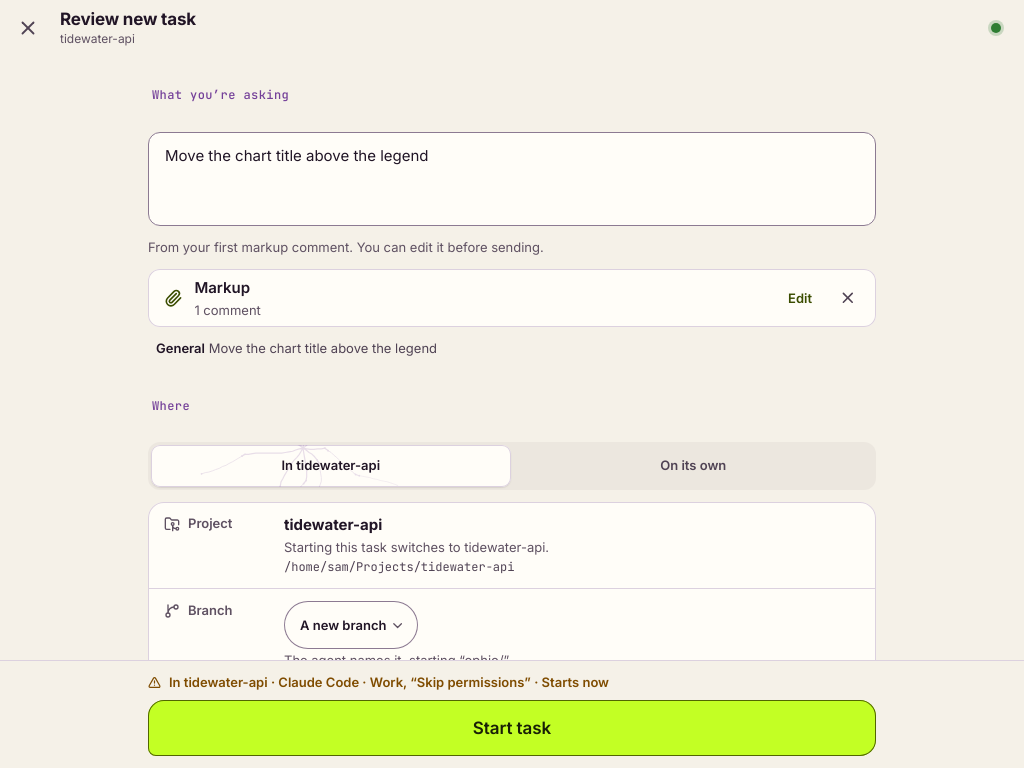
prefills the first markup comment once and places a refusal by Start with focus on the editable request
Check: the text "From your first markup comment" is shown, box [148,239,544,255]
Clear the text box named "What you’re asking" at (512, 179), box [148,132,876,226]
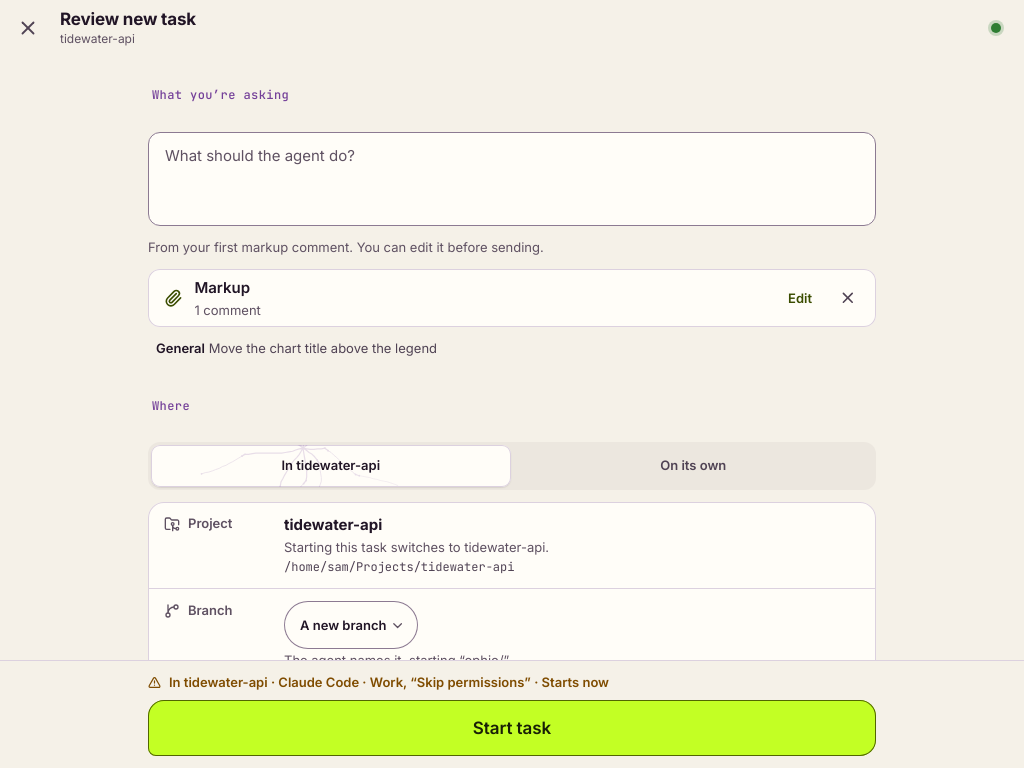
Click the button "Start task" at (512, 728), box [148,700,876,756]
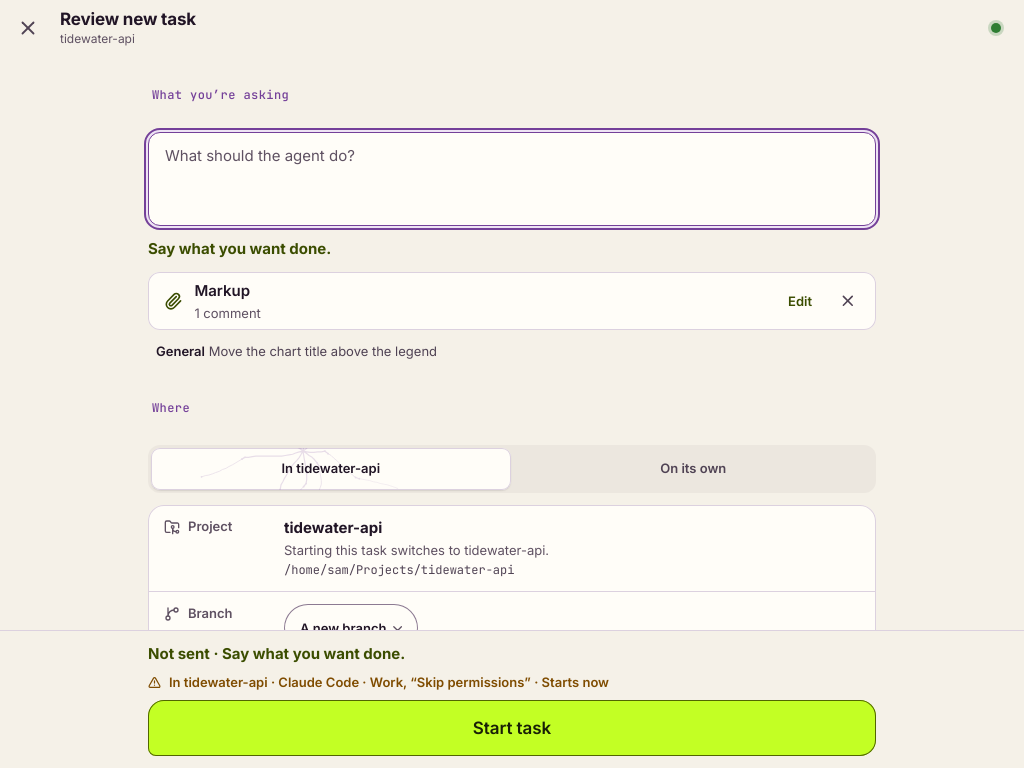
Check: the message "Not sent · Say what you want done." is shown, box [148,644,405,663]
